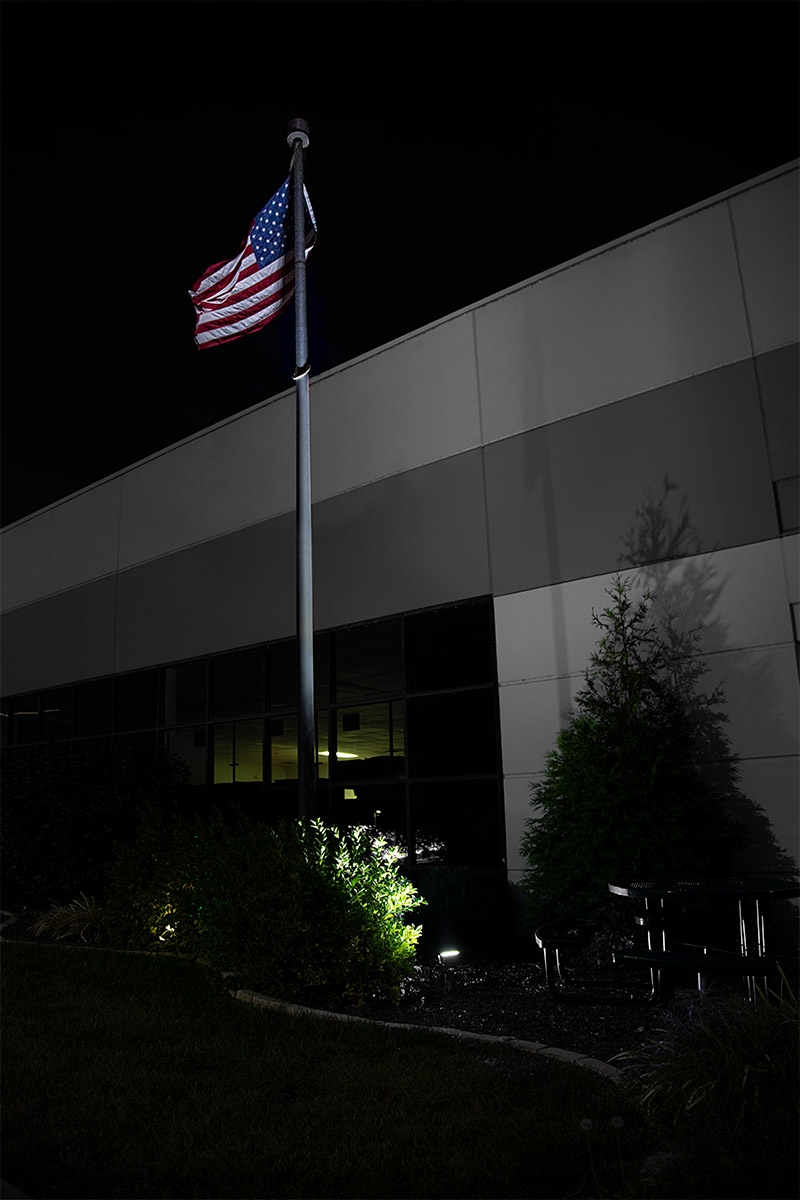Flag: (182, 147, 332, 354)
